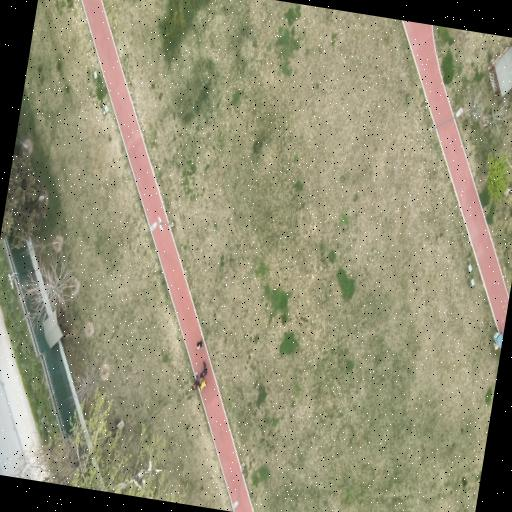person: (192, 372, 199, 389), (200, 362, 207, 377), (199, 378, 206, 390), (196, 340, 203, 349)
